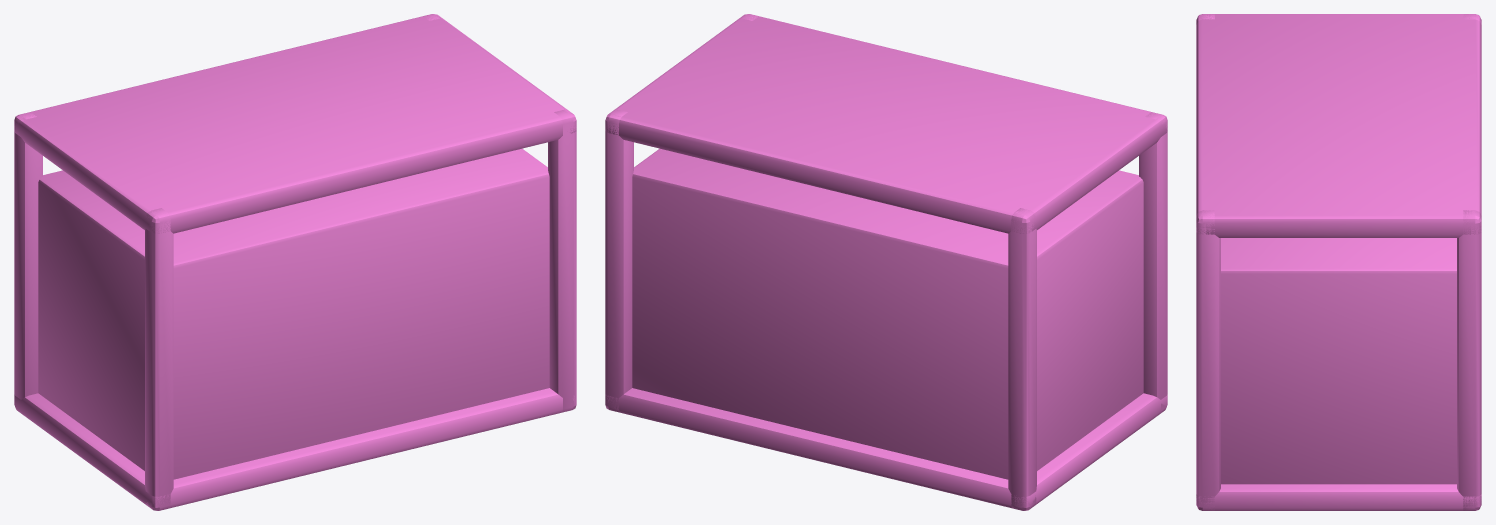
The model's file is Parcel_FishTank.fbx.
The picture shows the model from 3 angles, left to right: view 1: azimuth 30°, elevation 25°; view 2: azimuth 150°, elevation 25°; view 3: azimuth 270°, elevation 25°; orthographic projection.
Parts seen in each view (by area): view 1: Parcel; view 2: Parcel; view 3: Parcel.
Boxes of the visible parts, x1,y1,x2,y2 form: Parcel: (14, 14, 576, 510); Parcel: (605, 14, 1167, 510); Parcel: (1196, 14, 1481, 510).
Bounding box in the file's own units: 2.4 × 1.6 × 1.4.
1 material, 1 textured.
